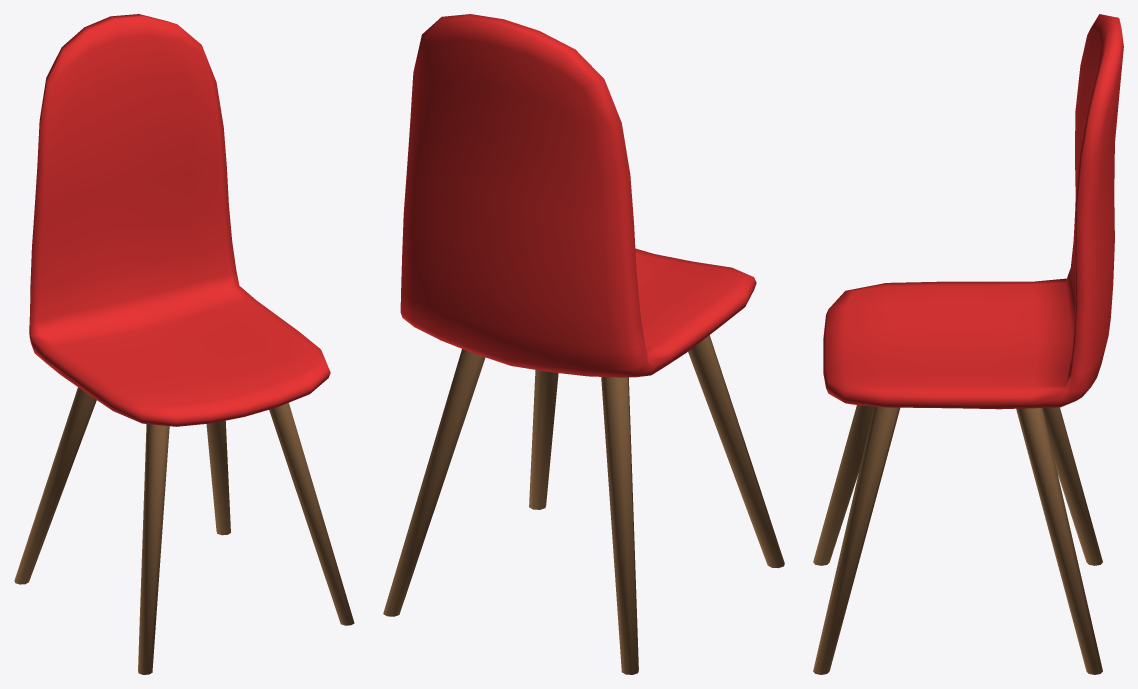
Rendered from chair_10.glb.
The picture shows the model from 3 angles, left to right: view 1: azimuth 30°, elevation 25°; view 2: azimuth 150°, elevation 25°; view 3: azimuth 270°, elevation 25°; orthographic projection. The views are drawn at different scales.
Visible parts, largest first — view 1: Chair 3; view 2: Chair 3; view 3: Chair 3.
Part boxes in pixels (<box>): Chair 3: <box>14,14,354,674</box>; Chair 3: <box>383,14,784,674</box>; Chair 3: <box>813,14,1123,674</box>.
Bounding box in the file's own units: 0.5814 × 1.37 × 0.6576.
Materials: 1 (1 with a texture image).
